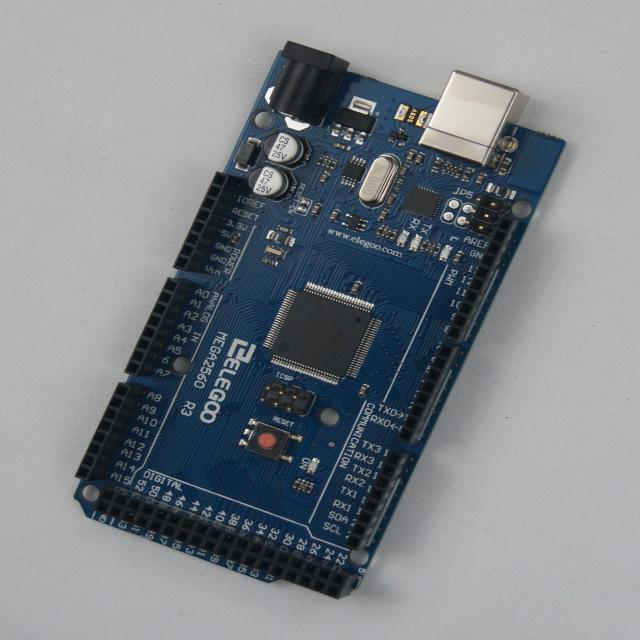Arduino Mega 2560 -Blue-: (75, 43, 564, 600)
